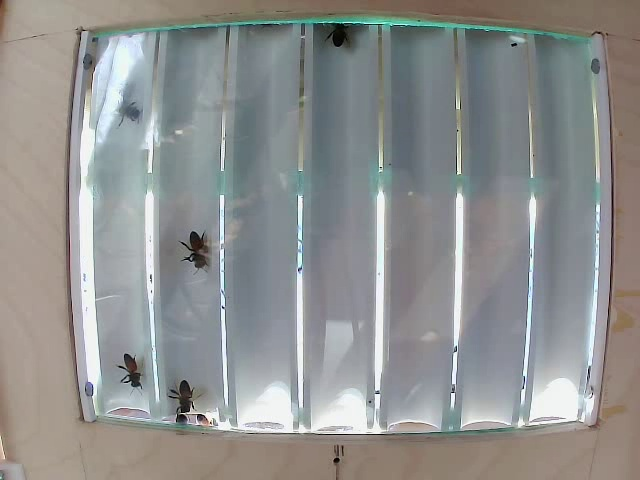bee: (172, 229, 217, 283), (118, 351, 147, 385), (167, 378, 199, 408)
